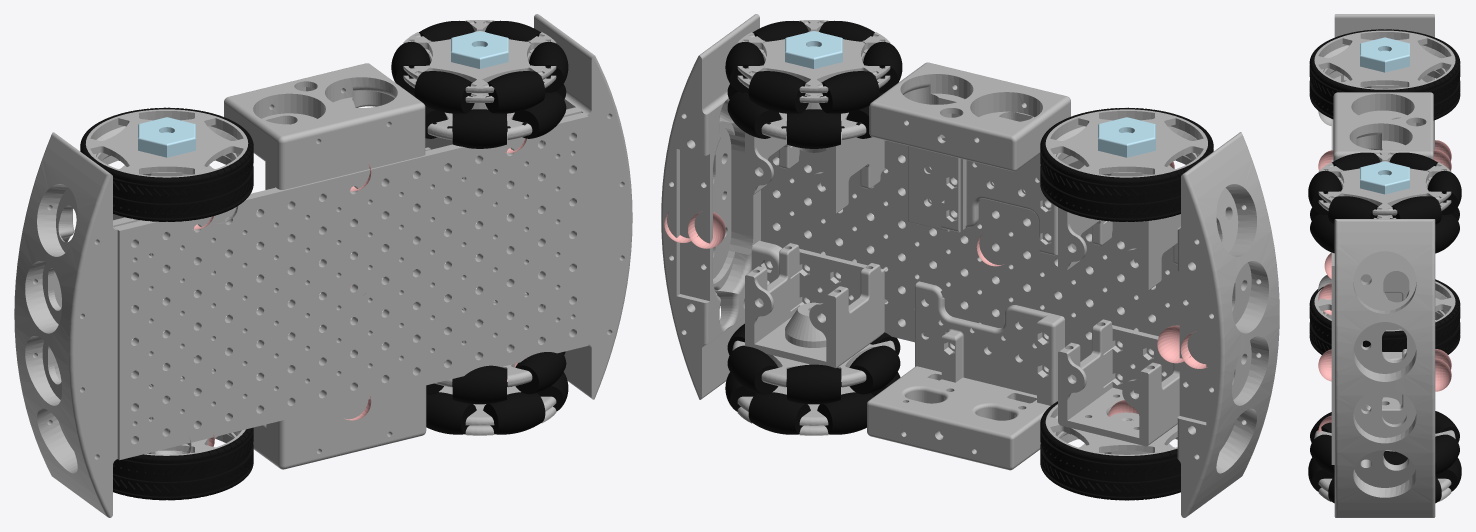
Rendered from roboteil_d.glb.
3 renders of one model, left to right at view 1: azimuth 30°, elevation 25°; view 2: azimuth 150°, elevation 25°; view 3: azimuth 270°, elevation 25°, orthographic. The views are drawn at different scales.
Visible parts, largest first — view 1: CenterPlate Alu, sbFront (×2), sb_center_cont, Tire (×2), sbCenter, Roller_copy4 (×4), rim-outer, Roller_copy3 (×3), Wheel-Hub-Cup (×2), rim_outer_b, Roller_copy5 (×2), Roller_copy2 (+4 smaller); view 2: sbFront (×2), CenterPlate Alu, HolderBase (×4), sbCenter, sb_center_cont, Tire (×2), Roller_copy1 (×4), rim-outer, Roller_copy6 (×4), Wheel-Hub-Cup (×2), rim_outer_b, Roller_copy5 (×2) (+9 smaller); view 3: sbFront (×2), sb_center_cont, Tire (×2), rim-outer, Wheel-Hub-Cup (×2), rim_outer_b, Roller_copy4 (×4), Roller_copy6 (×3), Roller_copy1 (×3), HolderBase (×2), Roller_copy3 (×2), rim-inner (×2) (+9 smaller).
Part boxes in pixels (<box>): CenterPlate Alu: <box>114,112,588,460</box>; sbFront (×2): <box>14,14,632,517</box>; sb_center_cont: <box>224,63,430,269</box>; Tire (×2): <box>80,107,253,500</box>; sbCenter: <box>253,336,426,469</box>; Roller_copy4 (×4): <box>452,71,566,434</box>; rim-outer: <box>85,109,248,177</box>; Roller_copy3 (×3): <box>414,71,566,394</box>; Wheel-Hub-Cup (×2): <box>138,31,508,157</box>; rim_outer_b: <box>403,20,556,93</box>; Roller_copy5 (×2): <box>426,42,568,434</box>; Roller_copy2: <box>391,42,430,92</box>; sbFront (×2): <box>661,14,1279,517</box>; CenterPlate Alu: <box>761,140,1179,382</box>; HolderBase (×4): <box>745,132,1180,446</box>; sbCenter: <box>867,281,1064,470</box>; sb_center_cont: <box>869,62,1070,255</box>; Tire (×2): <box>1040,107,1213,500</box>; Roller_copy1 (×4): <box>727,71,840,434</box>; rim-outer: <box>1045,109,1207,177</box>; Roller_copy6 (×4): <box>725,42,874,434</box>; Wheel-Hub-Cup (×2): <box>785,31,1155,157</box>; rim_outer_b: <box>737,20,890,93</box>; Roller_copy5 (×2): <box>752,21,900,394</box>; sbFront (×2): <box>1334,14,1435,517</box>; sb_center_cont: <box>1333,92,1433,161</box>; Tire (×2): <box>1309,29,1460,354</box>; rim-outer: <box>1314,30,1455,89</box>; Wheel-Hub-Cup (×2): <box>1360,37,1409,194</box>; rim_outer_b: <box>1318,151,1451,215</box>; Roller_copy4 (×4): <box>1308,170,1342,491</box>; Roller_copy6 (×3): <box>1391,196,1459,442</box>; Roller_copy1 (×3): <box>1427,170,1461,491</box>; HolderBase (×2): <box>1360,271,1409,424</box>; Roller_copy3 (×2): <box>1310,152,1380,475</box>; rim-inner (×2): <box>1314,68,1455,331</box>.
Bounding box in the file's own units: 360 × 224 × 97.98.
